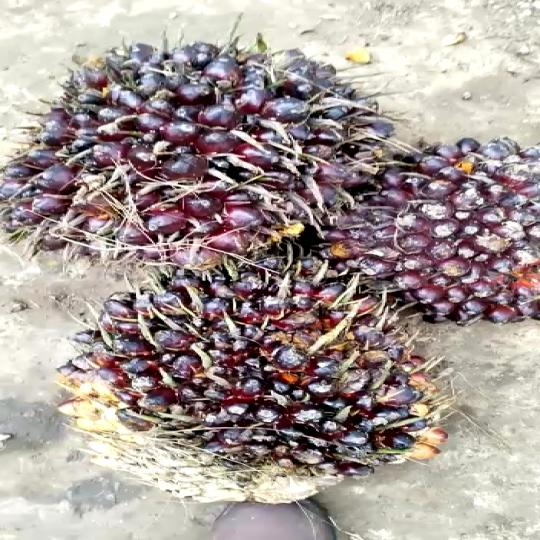kurang masak: (80, 243, 452, 520), (0, 36, 379, 270), (320, 132, 540, 350)
